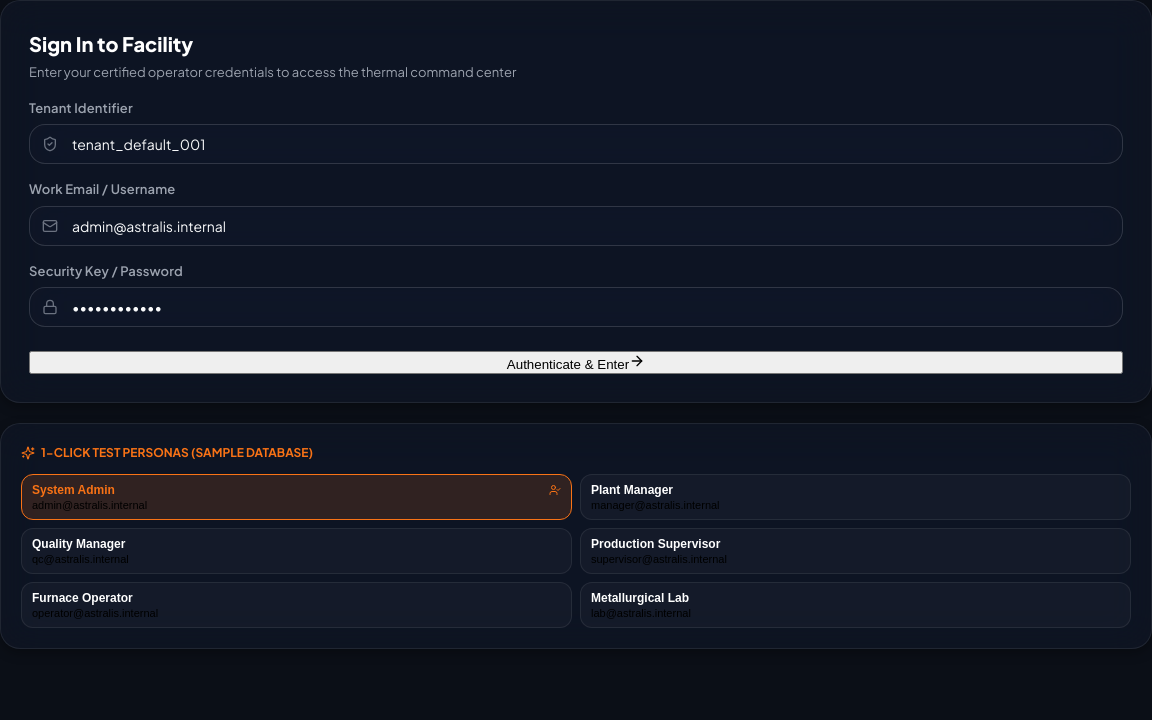
it: End-to-End Manufacturing ERP Interaction Suite › 1. Authentication & Session Interactions › displays error alert when login fails
Step 1. Click the button "Authenticate & Enter" → click(576, 362), box [29, 351, 1123, 374]
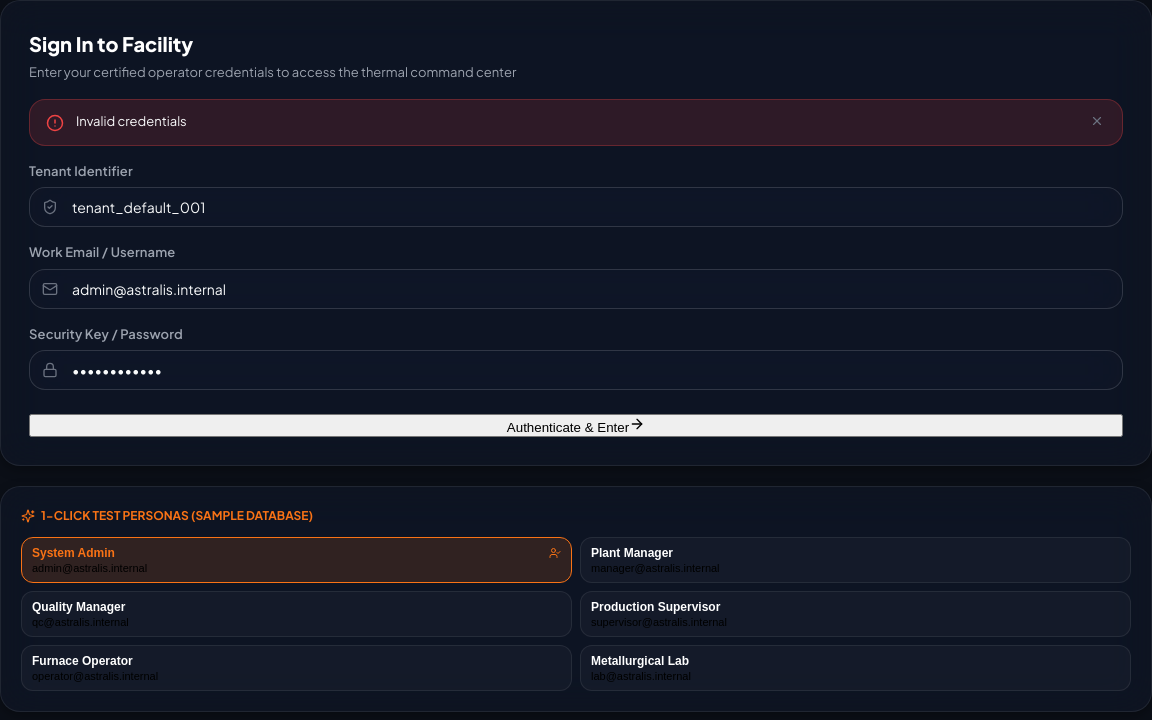
Now the text "Invalid credentials" is shown, box [76, 112, 187, 128]
